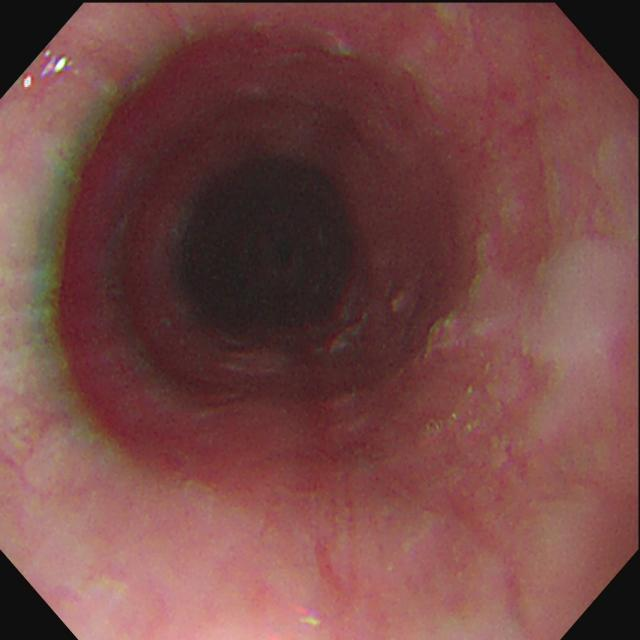E: (181, 159, 349, 333)
J: (422, 231, 640, 374), (326, 312, 373, 355), (385, 280, 416, 317)
U: (23, 47, 73, 89)
